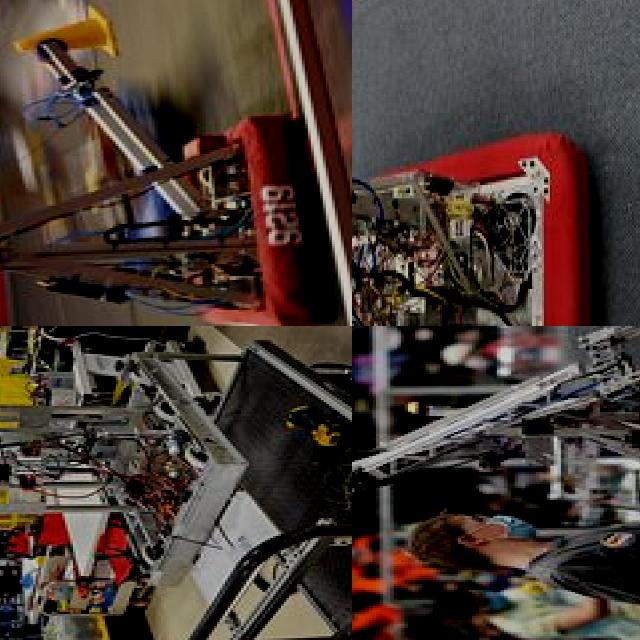FRC-Robots: (0, 326, 352, 640), (0, 39, 321, 326), (352, 326, 640, 640), (352, 15, 640, 326), (3, 67, 181, 276)
